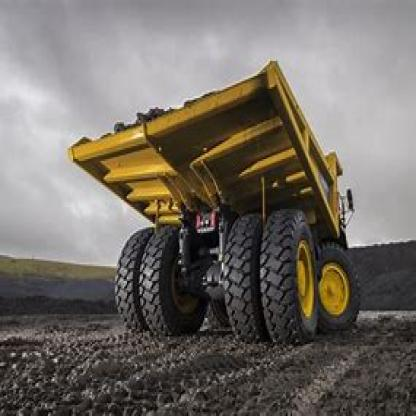dump_truck: (39, 54, 371, 355)
